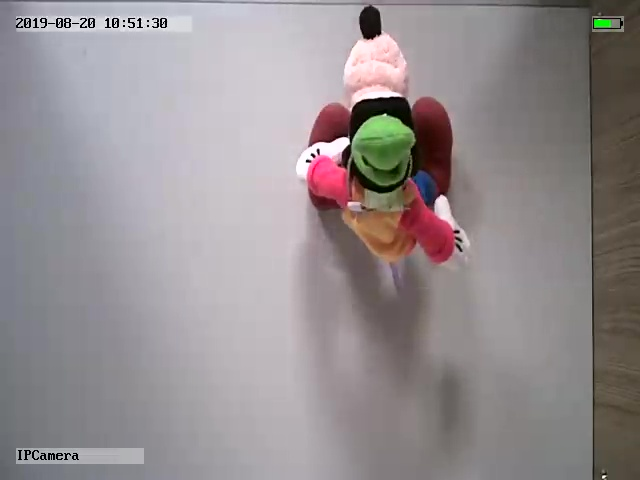goofy: (294, 5, 471, 270)
